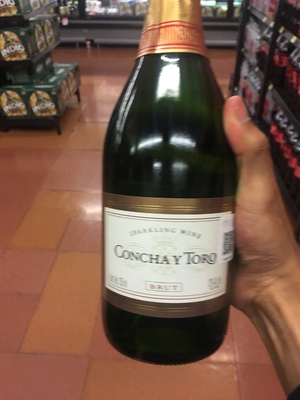brut: (93, 1, 245, 360)
